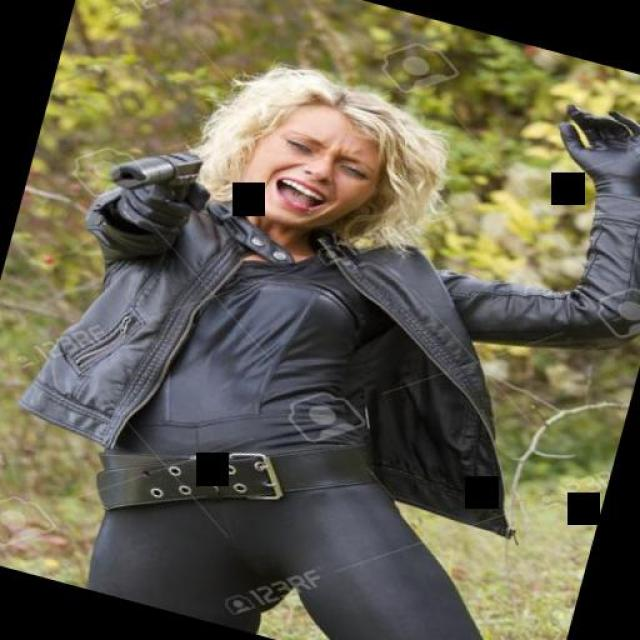gun: (105, 131, 210, 221)
